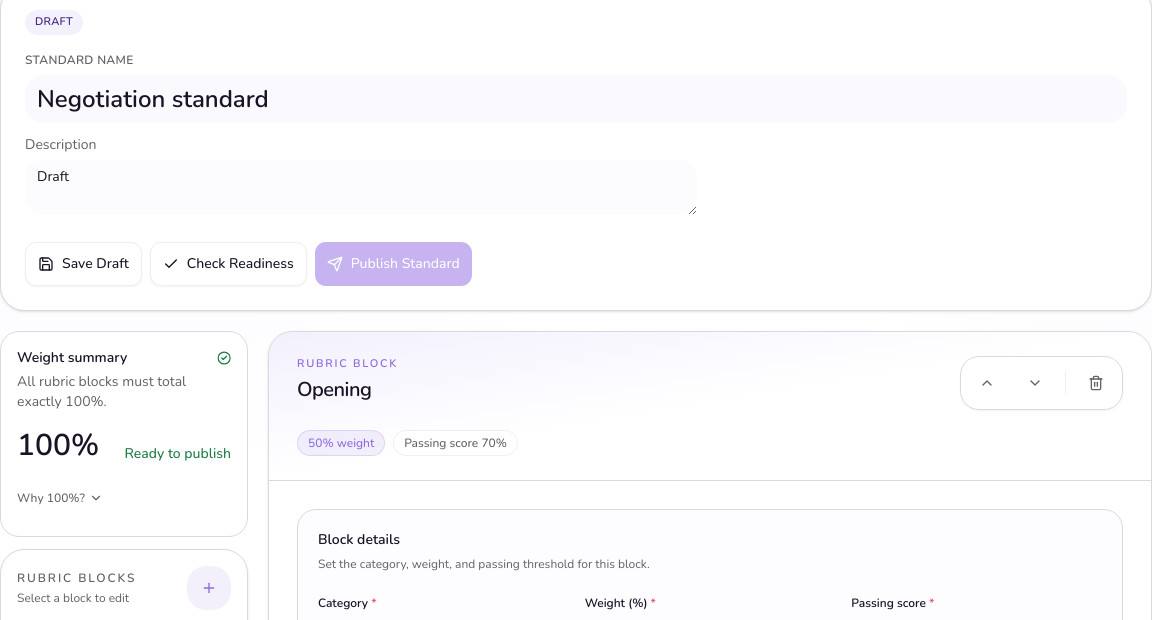
Test: StandardEditor human-readable validation error list › groups validation errors by block/criterion name instead of showing raw JSON paths
The width and height of the screenshot is (1152, 620).
Click the button "Check Readiness" at (228, 264), box [150,242,307,286]
(page scrolled)
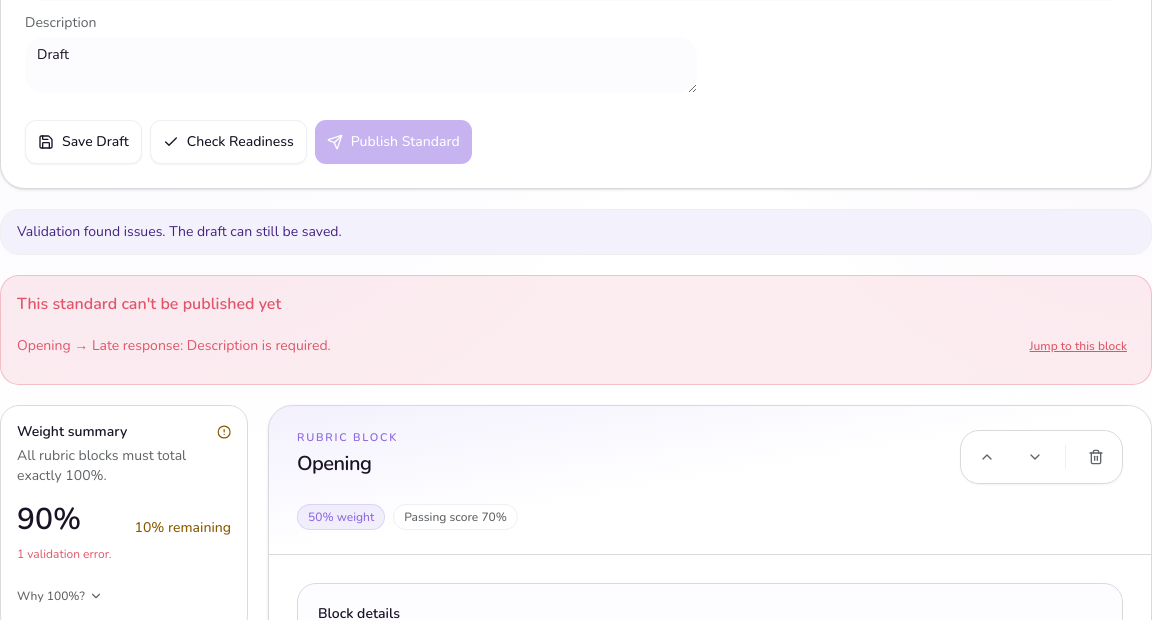
expect the message that starts with "This standard can't be published yet" is shown: met, box [0,274,1151,384]
expect the text "Opening → Late response: Description is required." is shown: met, box [17,336,331,356]
expect the button "Jump to this block" is shown: met, box [1022,324,1135,368]
